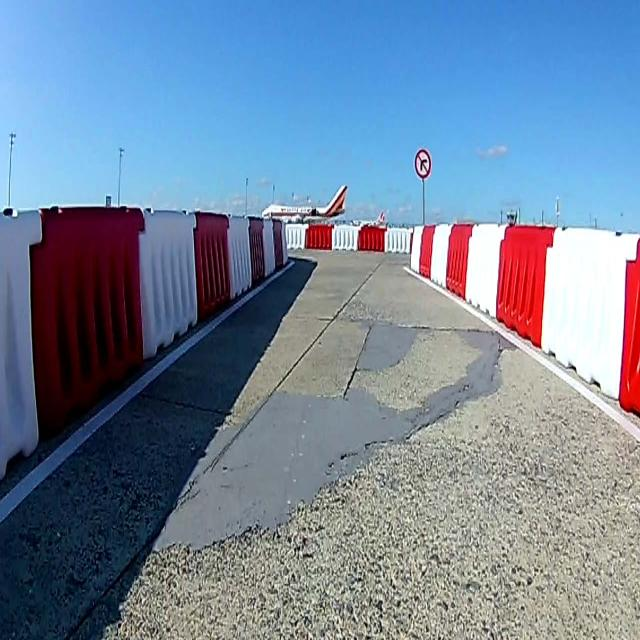sagadonulmez: (415, 150, 431, 178)
